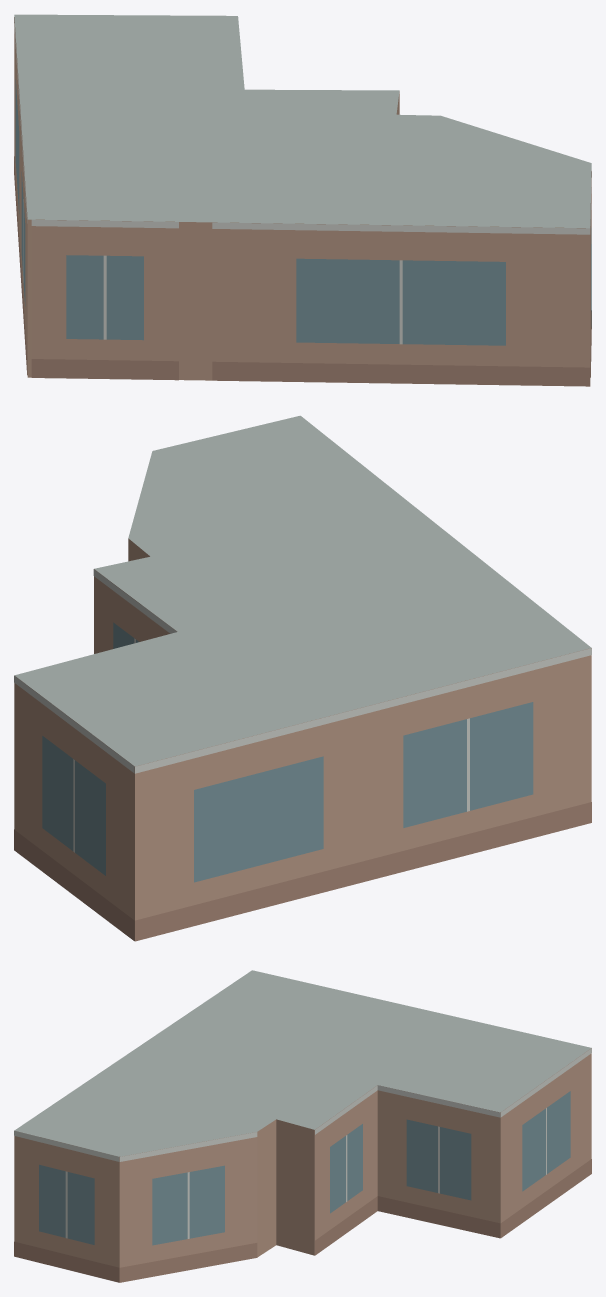
File: survey-upis-32724661.glb
The picture shows the model from 3 angles, top to bottom: view 1: azimuth 30°, elevation 25°; view 2: azimuth 150°, elevation 25°; view 3: azimuth 270°, elevation 25°; orthographic projection. The views are drawn at different scales.
Visible parts, largest first — view 1: survey-upis-32724661.tmp; view 2: survey-upis-32724661.tmp; view 3: survey-upis-32724661.tmp.
Boxes of the visible parts, x1,y1,x2,y2 form: survey-upis-32724661.tmp: (14, 14, 591, 386); survey-upis-32724661.tmp: (14, 415, 591, 941); survey-upis-32724661.tmp: (14, 970, 591, 1282).
Size of the model in its own units: 9.71 by 3.05 by 12.69.
